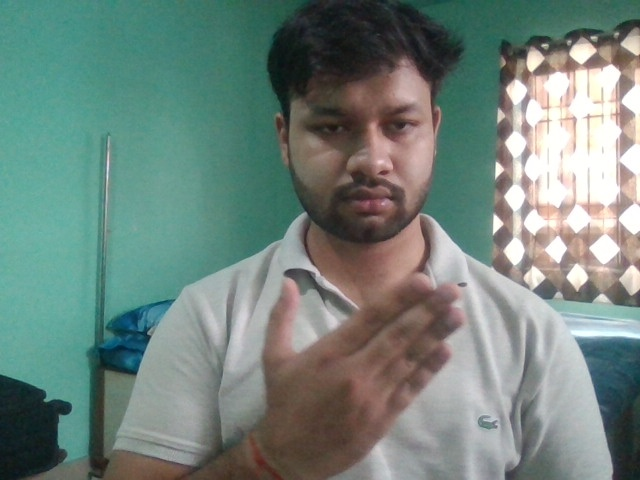Please: (247, 271, 468, 480)
